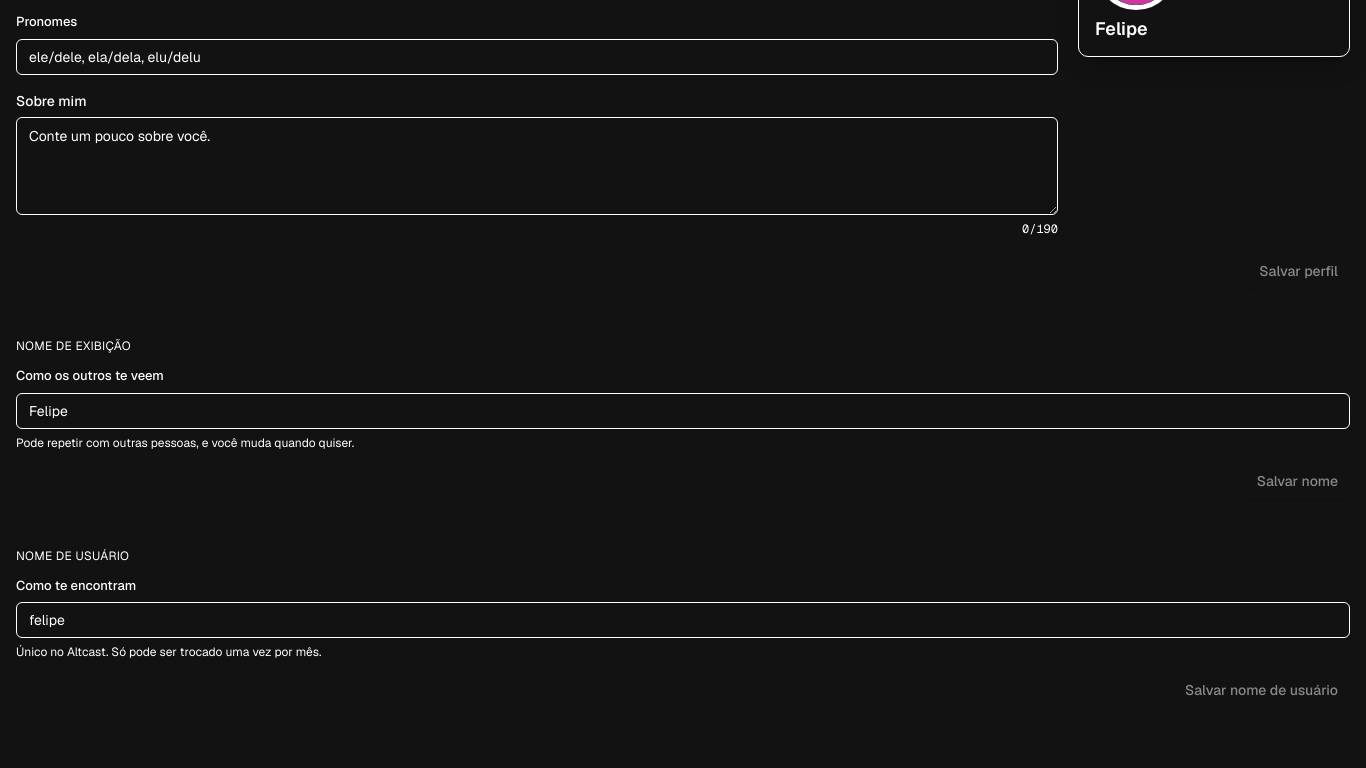
Test case: tela de perfil › o motivo da recusa do handle vem do servidor, campo a campo
Step 1. Type "Com Espaço" into the field labelled "Como te encontram" → (683, 620), box [16,602,1350,638]
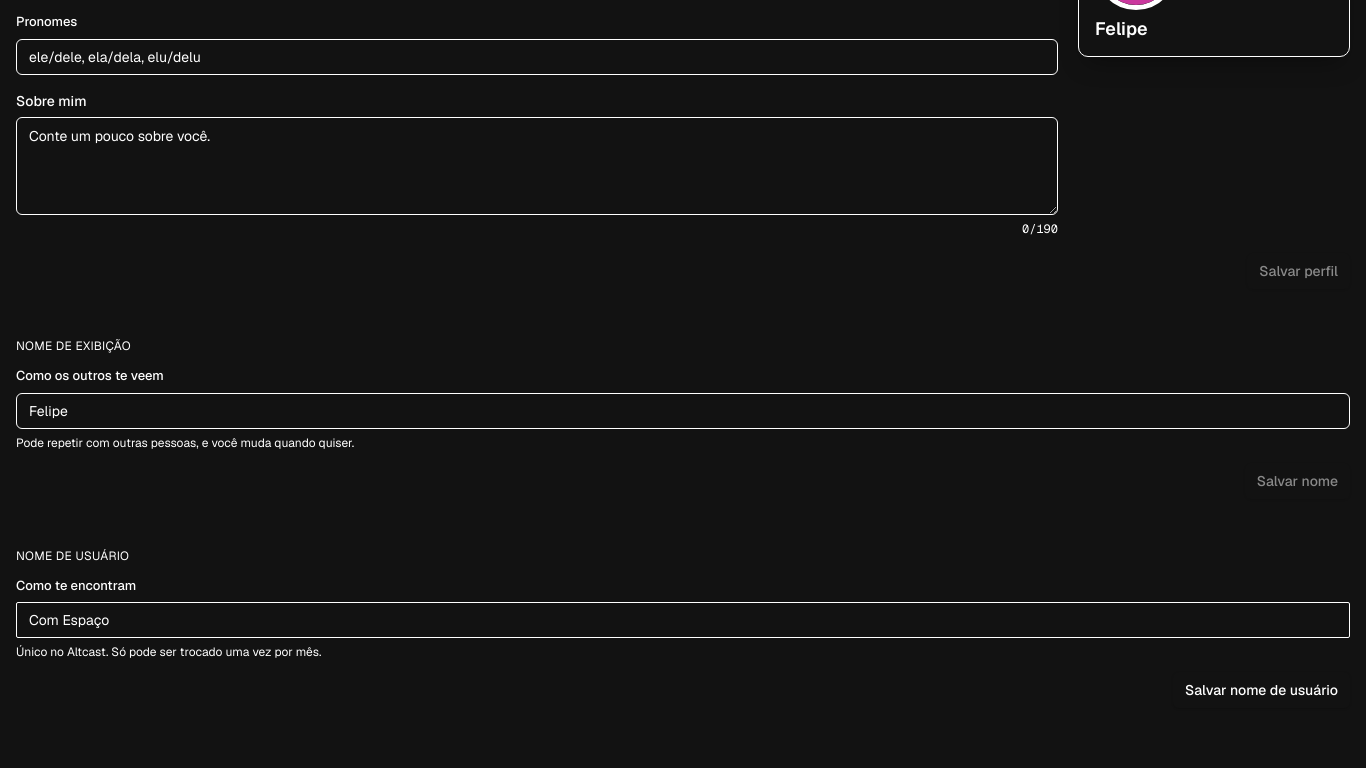
Step 2. Click the button "Salvar nome de usuário" → (1262, 690), box [1173,672,1350,708]
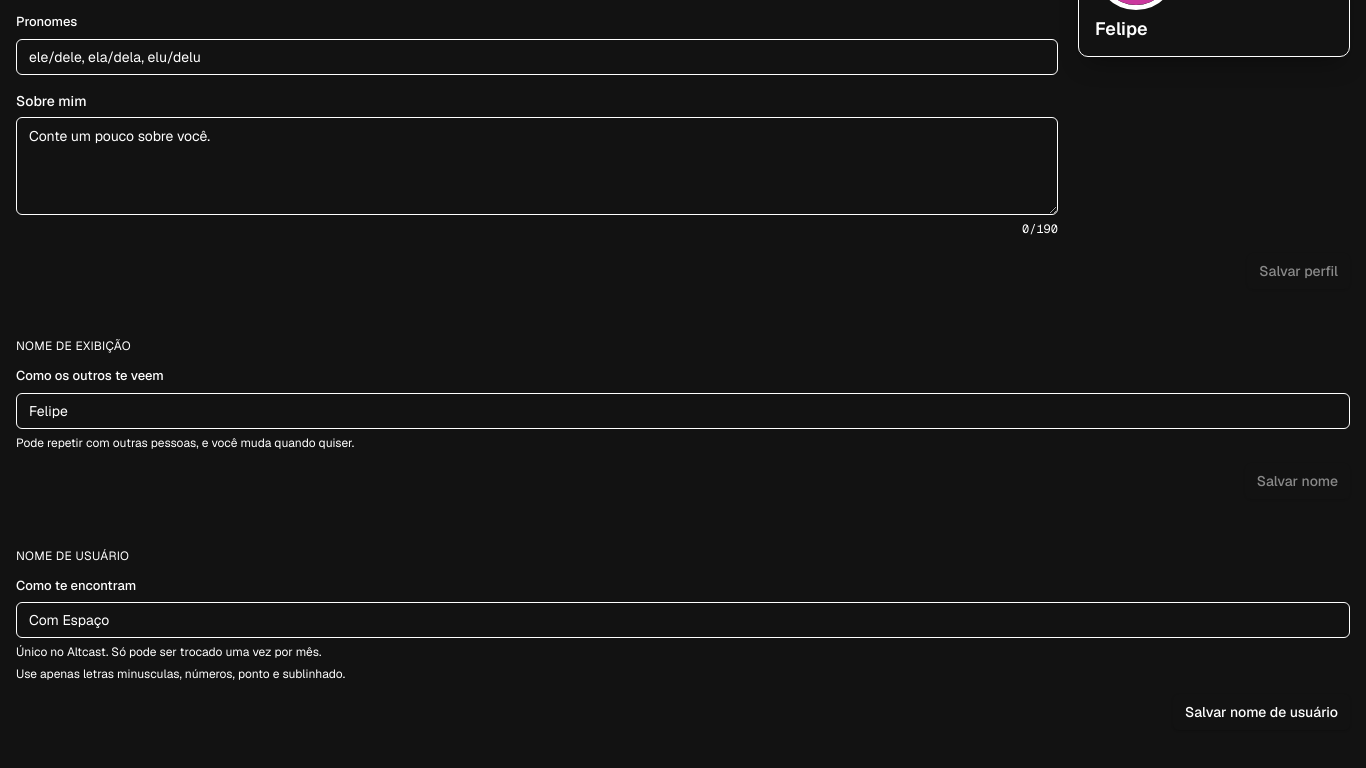
Expected: the text "Use apenas letras minusculas, números, ponto e sublinhado." is shown, [16,666,345,682]
